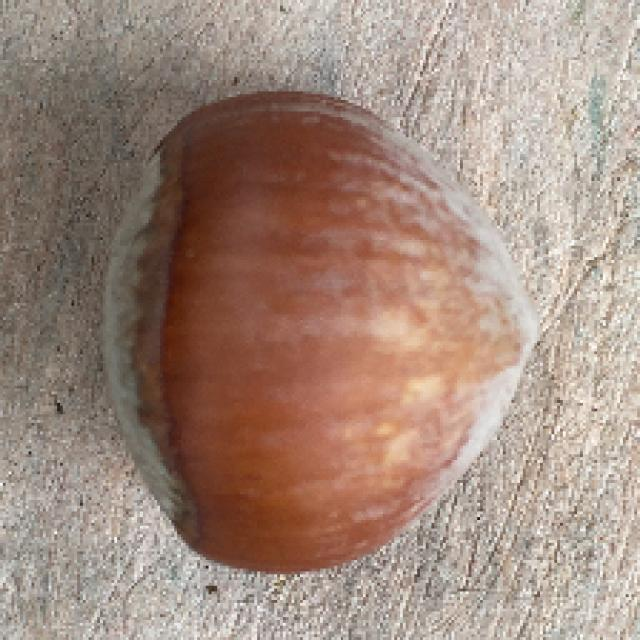QualityHazelnut: (94, 91, 547, 572)
